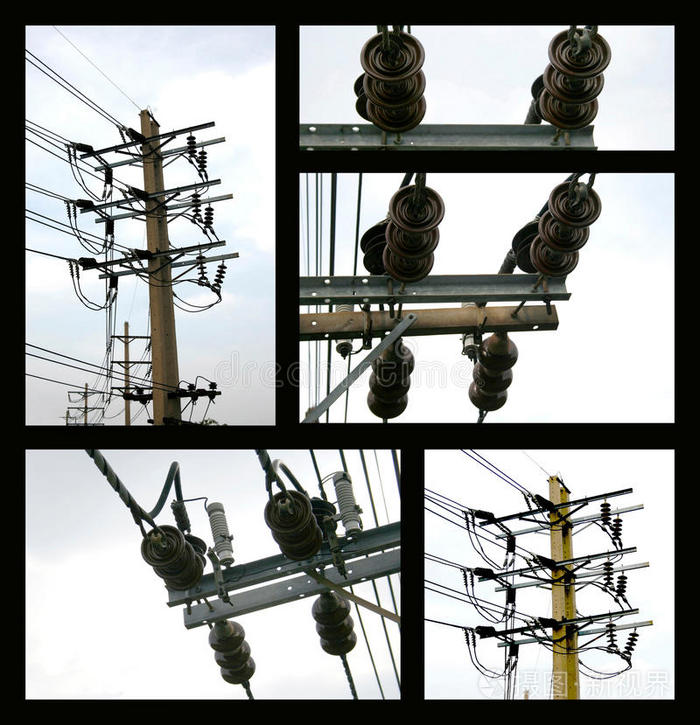insulator: (545, 27, 612, 130), (532, 184, 601, 275), (367, 32, 425, 133), (385, 185, 445, 281), (142, 525, 203, 590), (263, 492, 322, 559), (467, 338, 520, 409), (367, 345, 415, 416), (209, 621, 258, 684), (311, 596, 363, 655)
